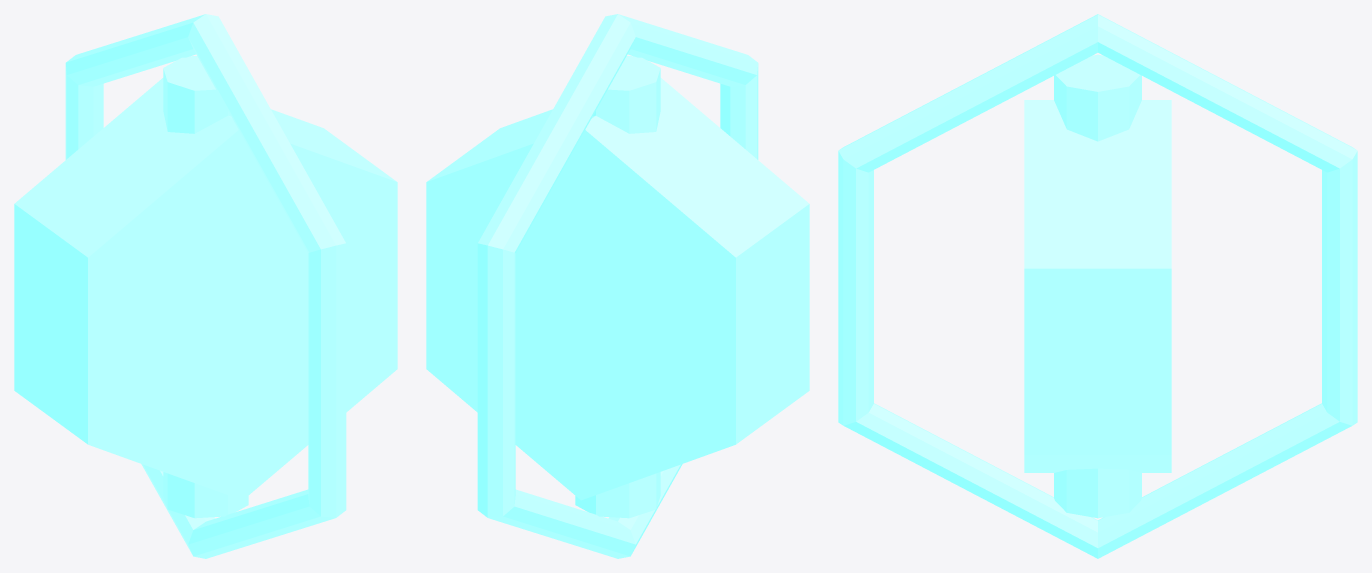
File: git_branch_node.glb
3 renders of one model, left to right at view 1: azimuth 30°, elevation 25°; view 2: azimuth 150°, elevation 25°; view 3: azimuth 270°, elevation 25°, orthographic.
Parts seen in each view (by area): view 1: GitBranchCommitNode; view 2: GitBranchCommitNode; view 3: GitBranchCommitNode.
Boxes of the visible parts, <box> form: GitBranchCommitNode: <box>14,14,397,558</box>; GitBranchCommitNode: <box>426,14,809,558</box>; GitBranchCommitNode: <box>838,14,1357,558</box>.
Size of the model in its own units: 1.21 by 2.04 by 1.77.
